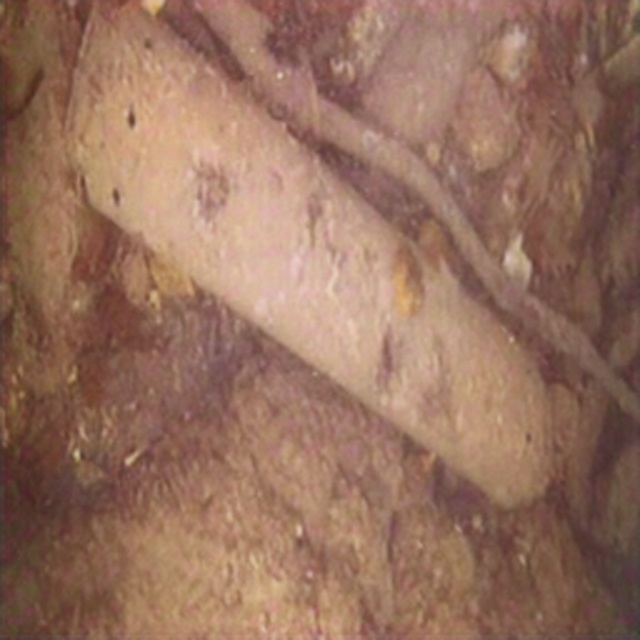mine: (61, 0, 578, 509)
